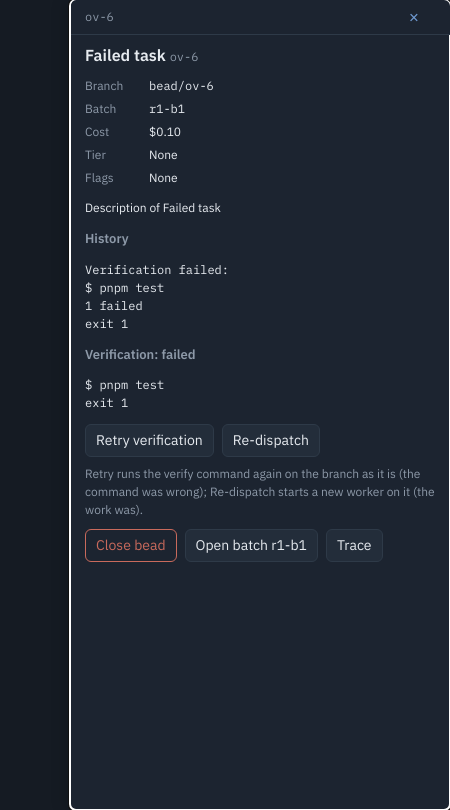
Test: TaskPane › toasts a validation refusal and restores the buttons on a 4xx
What coordinates should you click on to do the following:
click the button "Retry verification"
I would click on:
 (149, 440)
Its box is [85,424,214,457].
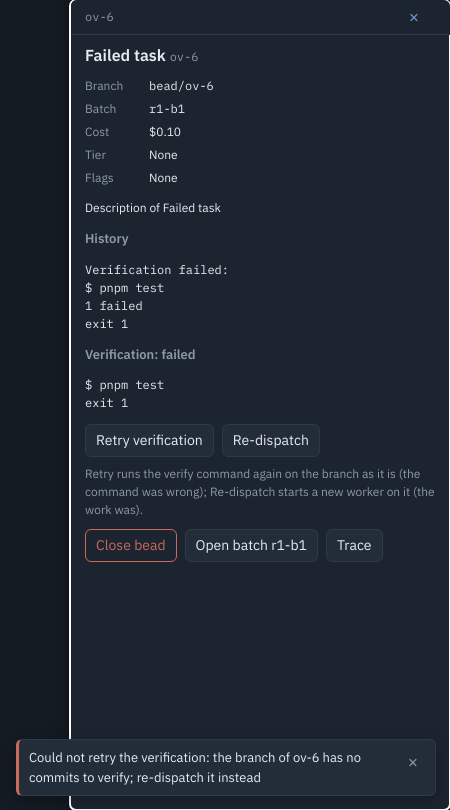
Expected: the button "Re-dispatch" is enabled, [222,424,320,457]
Result: the text with class "toast-text" shows "Could not retry the verification: the branch of ov-6 has no commits to verify; re-dispatch it instead" at [29,749,361,786]
